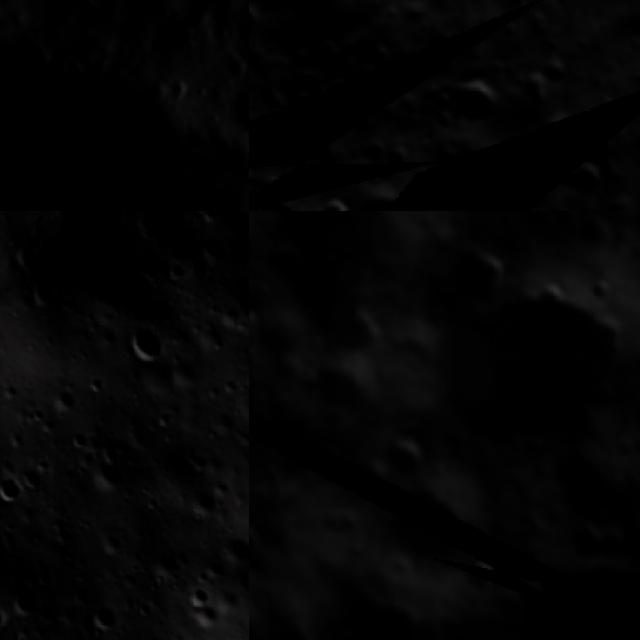crater: (387, 232, 640, 497), (360, 440, 516, 590), (249, 211, 454, 318), (61, 233, 178, 357), (290, 334, 392, 433), (430, 56, 520, 144), (550, 132, 634, 211), (347, 157, 448, 211), (494, 150, 568, 211), (343, 116, 410, 182), (260, 110, 322, 173), (533, 98, 592, 157), (374, 427, 432, 486), (567, 514, 622, 569), (120, 319, 172, 372), (565, 211, 620, 261), (301, 176, 367, 211), (85, 449, 133, 496), (81, 593, 127, 640), (218, 72, 249, 138), (181, 483, 226, 527), (5, 580, 48, 623), (468, 245, 511, 287), (194, 232, 234, 271), (216, 527, 249, 572), (46, 383, 84, 422), (186, 598, 224, 635), (94, 527, 130, 564), (581, 269, 617, 306), (0, 468, 30, 511), (624, 414, 640, 491), (159, 252, 193, 288), (181, 581, 217, 613), (249, 0, 274, 46), (213, 300, 246, 334), (249, 512, 269, 563), (84, 373, 108, 400), (249, 302, 264, 337), (240, 227, 249, 267)
